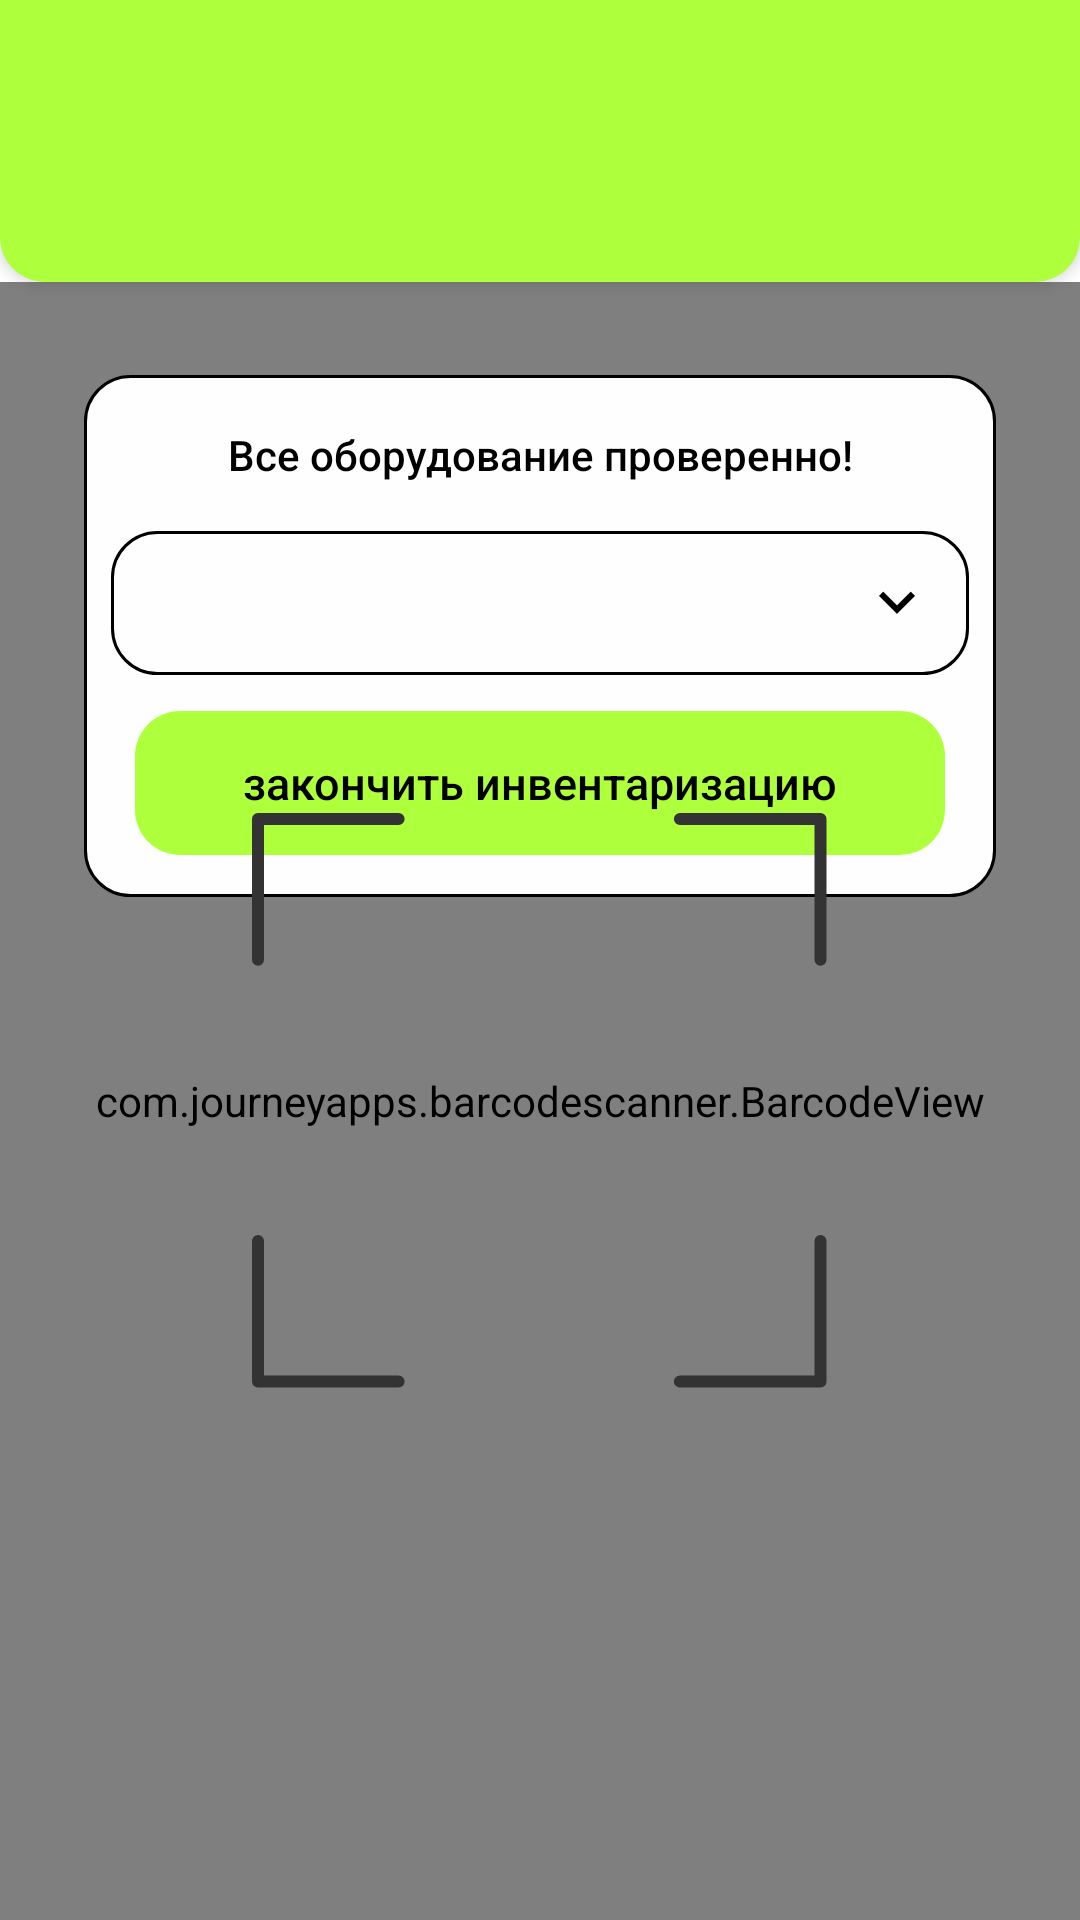

Locate icon controls on the screen. Image size 1080 x 1920, boxes as bbox=(x1, y1, x2, y2).
Стрелка: bbox=(879, 591, 915, 614)
